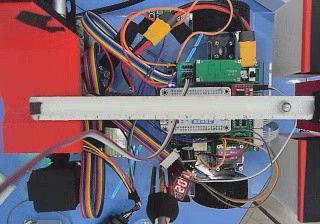ironball: (280, 101, 290, 112)
